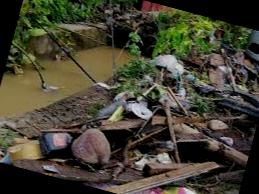Blocked drain: (0, 0, 170, 166)
